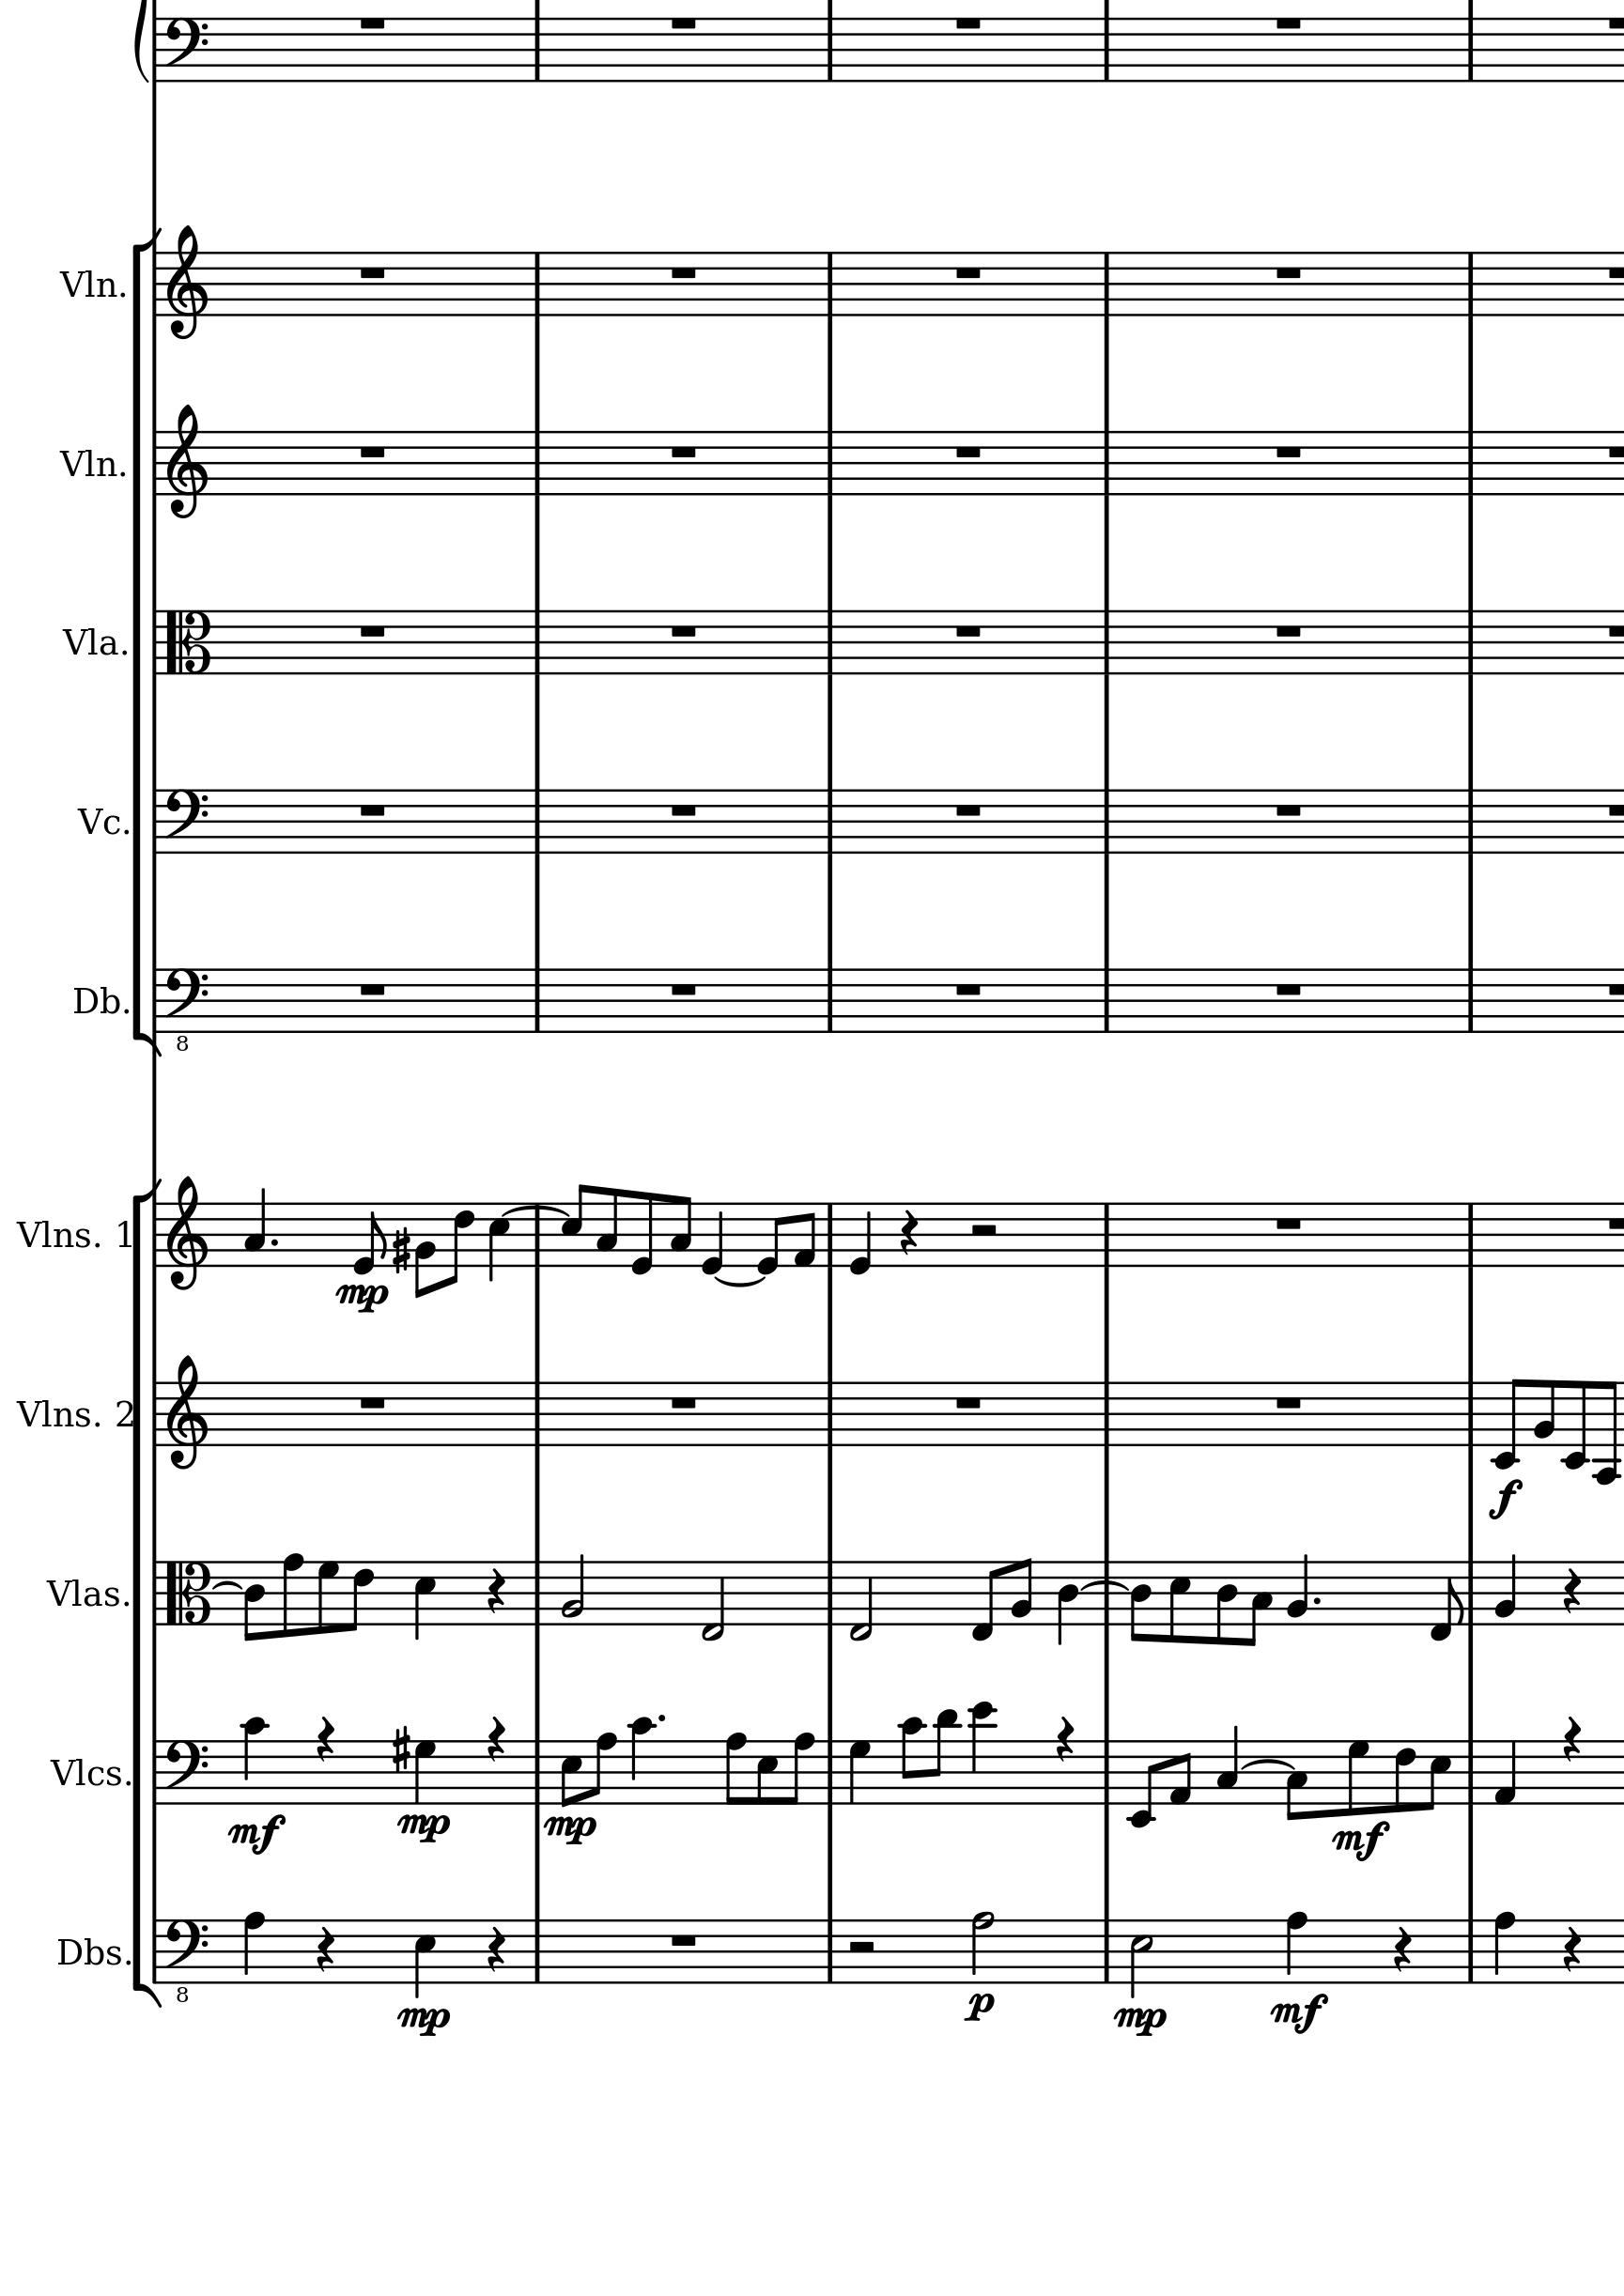2_-1: (700, 1558, 726, 1643), (847, 1558, 874, 1641)
2_2: (557, 1553, 585, 1627)
2_5: (1127, 1918, 1153, 1999)
2_8: (968, 1910, 997, 1985)
4_0: (847, 1202, 872, 1275), (700, 1202, 722, 1277)
4_1: (1492, 1737, 1517, 1806)
4_10: (239, 1715, 269, 1804), (626, 1715, 654, 1806)
4_12: (967, 1700, 997, 1806)
4_2: (1492, 1551, 1517, 1627), (1285, 1553, 1308, 1627)
4_3: (241, 1186, 265, 1268), (1214, 1725, 1237, 1806)
4_4: (1053, 1560, 1077, 1648)
4_5: (411, 1558, 436, 1641), (411, 1918, 436, 1999), (487, 1202, 510, 1282)
4_7: (413, 1737, 436, 1806), (847, 1739, 870, 1808)
4_8: (1490, 1910, 1517, 1987), (241, 1910, 265, 1987), (1283, 1910, 1308, 1985)
8_-1: (1427, 1558, 1464, 1641), (968, 1558, 1000, 1643)
8_-2: (1490, 1375, 1522, 1470), (1591, 1379, 1617, 1488), (1125, 1739, 1156, 1829), (1561, 1379, 1587, 1472)
8_0: (352, 1202, 385, 1275), (754, 1200, 782, 1275), (629, 1189, 652, 1279)
8_1: (1167, 1741, 1192, 1806), (793, 1202, 814, 1268)
8_10: (896, 1716, 923, 1806)
8_11: (930, 1706, 960, 1806)
8_2: (411, 1202, 434, 1300), (1531, 1377, 1554, 1448), (1009, 1556, 1032, 1627)
8_3: (1243, 1558, 1272, 1650), (1281, 1739, 1308, 1823), (594, 1186, 617, 1268), (666, 1193, 691, 1268)
8_4: (1211, 1558, 1236, 1646), (241, 1560, 265, 1644), (1127, 1560, 1151, 1643)
8_5: (559, 1180, 589, 1268), (1422, 1739, 1452, 1813), (1165, 1560, 1190, 1646), (557, 1737, 582, 1808), (754, 1737, 777, 1806)
8_6: (445, 1200, 473, 1286), (344, 1560, 373, 1634), (1392, 1737, 1415, 1815)
8_7: (1345, 1737, 1371, 1816), (315, 1558, 339, 1634)
8_8: (589, 1730, 617, 1806), (786, 1730, 814, 1806), (279, 1551, 304, 1637), (722, 1730, 747, 1806)
Bracke: (128, 1177, 160, 2017), (132, 225, 162, 1063)
Cclef: (162, 606, 211, 676), (163, 1558, 211, 1627)
Dbs: (53, 1931, 125, 1969), (70, 980, 120, 1019)
Fclef: (162, 787, 209, 857), (162, 1737, 207, 1806), (162, 16, 209, 79)
Gclef: (162, 402, 209, 522), (163, 223, 209, 341), (163, 1175, 209, 1293), (165, 1354, 209, 1470)
Lower_Fclef: (160, 1917, 211, 2006), (162, 966, 207, 1054)
Rests1: (353, 12, 388, 33), (353, 441, 388, 462), (353, 620, 388, 641), (666, 12, 700, 33), (951, 12, 984, 33), (1271, 12, 1304, 33), (951, 620, 984, 641), (355, 799, 388, 820), (951, 799, 984, 820), (1271, 799, 1304, 820), (353, 264, 388, 283), (353, 980, 388, 1000), (951, 264, 984, 283), (1271, 264, 1304, 283), (951, 441, 984, 460), (666, 622, 700, 641), (1271, 622, 1304, 641), (666, 799, 700, 819), (666, 980, 700, 1000), (1271, 980, 1304, 1000), (1271, 1214, 1304, 1233), (355, 1393, 388, 1412), (666, 1393, 700, 1412), (1271, 1393, 1304, 1412), (666, 1931, 700, 1950), (666, 264, 700, 281), (666, 443, 700, 460), (1271, 443, 1304, 460), (951, 980, 984, 998), (951, 1393, 984, 1411)
Rests2: (842, 1936, 879, 1959), (965, 1221, 1000, 1240)
Rests4: (483, 1925, 506, 1976), (313, 1715, 336, 1764), (313, 1925, 336, 1975), (1390, 1925, 1413, 1975), (1559, 1925, 1582, 1975), (896, 1210, 919, 1256), (485, 1565, 506, 1614), (1559, 1567, 1580, 1614), (485, 1716, 506, 1764), (1053, 1716, 1074, 1764), (1561, 1716, 1580, 1762)
Sharp: (390, 1723, 411, 1774), (390, 1224, 408, 1275)
Single_barline: (134, 16, 165, 86), (1095, 610, 1118, 675), (1459, 1203, 1482, 1268), (1459, 1383, 1482, 1448), (526, 432, 548, 495), (817, 432, 840, 495), (1095, 432, 1118, 495), (1459, 432, 1482, 495), (526, 611, 548, 675), (817, 611, 840, 675), (1459, 611, 1482, 675), (817, 791, 840, 854), (1095, 791, 1118, 854), (526, 1383, 548, 1446), (526, 791, 548, 852), (819, 18, 840, 83), (1459, 18, 1480, 83), (526, 253, 547, 316), (819, 253, 840, 316), (1459, 253, 1480, 316), (1095, 253, 1116, 316), (1459, 791, 1480, 854), (526, 970, 547, 1033), (819, 970, 840, 1033), (1095, 970, 1116, 1033), (1459, 970, 1480, 1033), (1095, 1203, 1116, 1267), (819, 1383, 840, 1446), (1095, 1383, 1116, 1446), (1459, 1741, 1480, 1804), (527, 1741, 548, 1804), (1461, 1920, 1482, 1983), (526, 1920, 547, 1983), (819, 1920, 840, 1983), (821, 1563, 842, 1625), (527, 18, 547, 83), (1097, 18, 1116, 83), (146, 253, 165, 316), (821, 1203, 840, 1267), (527, 1562, 547, 1625), (1461, 1562, 1480, 1625), (821, 1741, 840, 1804), (1097, 1741, 1116, 1804), (1097, 1920, 1116, 1982), (148, 1203, 165, 1268), (146, 611, 163, 675), (146, 791, 163, 854), (146, 970, 163, 1033), (146, 1562, 163, 1625), (527, 1207, 545, 1268), (146, 1743, 163, 1804), (148, 430, 163, 495), (148, 1383, 163, 1446), (146, 1920, 162, 1982), (148, 19, 162, 83)
Slur: (1241, 1758, 1294, 1773), (501, 1207, 568, 1217), (712, 1275, 765, 1288), (1079, 1581, 1127, 1592), (209, 1581, 243, 1592)
Vc: (76, 803, 125, 840)
Vla: (60, 618, 120, 664), (44, 1572, 104, 1614)
Vlc: (49, 1751, 105, 1794)
Vln: (56, 441, 118, 487), (56, 262, 118, 306), (14, 1393, 74, 1435), (14, 1214, 72, 1256)
dot: (267, 1235, 279, 1249), (654, 1713, 666, 1727), (1309, 1595, 1322, 1607)
f: (1487, 1477, 1524, 1520)
mf: (225, 1811, 285, 1857), (1330, 1818, 1390, 1864), (1269, 1990, 1329, 2036)
mp: (394, 2003, 453, 2040), (1111, 2003, 1169, 2040), (392, 1811, 453, 1845), (540, 1813, 598, 1848), (334, 1282, 390, 1316)
p: (961, 1990, 995, 2025)
